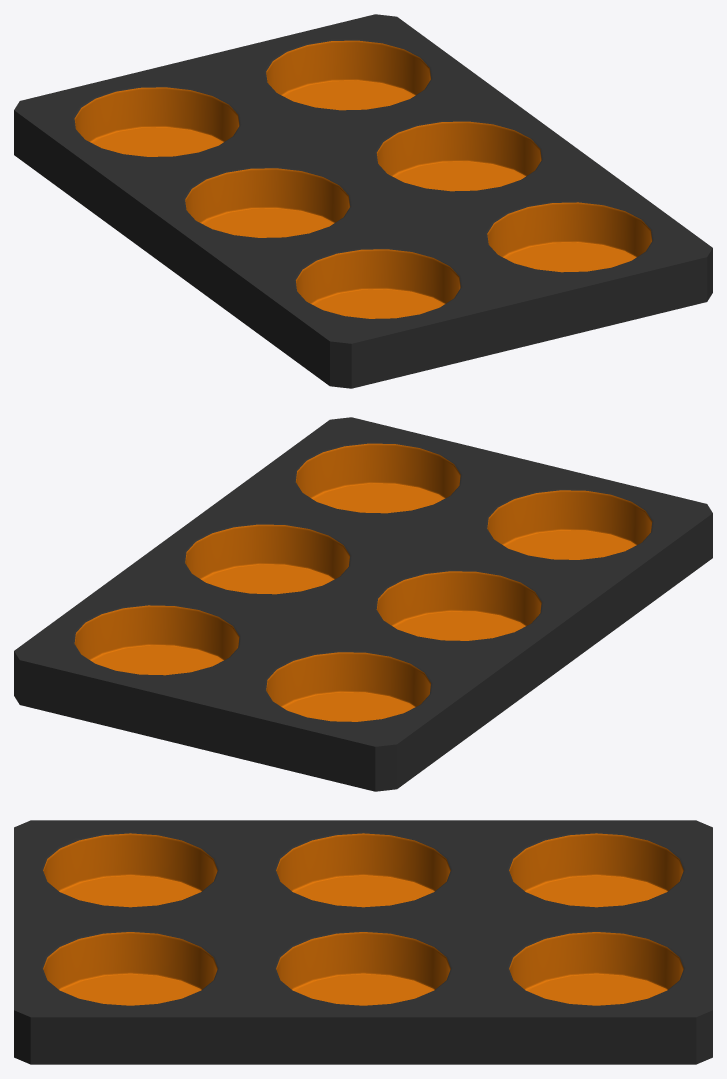
File: Coincraft_Coin_Mould.fbx
3 views of the same model, one above another, from view 1: azimuth 30°, elevation 25°; view 2: azimuth 150°, elevation 25°; view 3: azimuth 270°, elevation 25° (orthographic). The views are drawn at different scales.
Visible parts, largest first — view 1: Coin_Mould; view 2: Coin_Mould; view 3: Coin_Mould.
Boxes of the visible parts, <box> form: Coin_Mould: <box>14,14,712,388</box>; Coin_Mould: <box>14,417,712,791</box>; Coin_Mould: <box>14,820,712,1064</box>.
Size of the model in its own units: 66.55 by 7.49 by 99.83.
